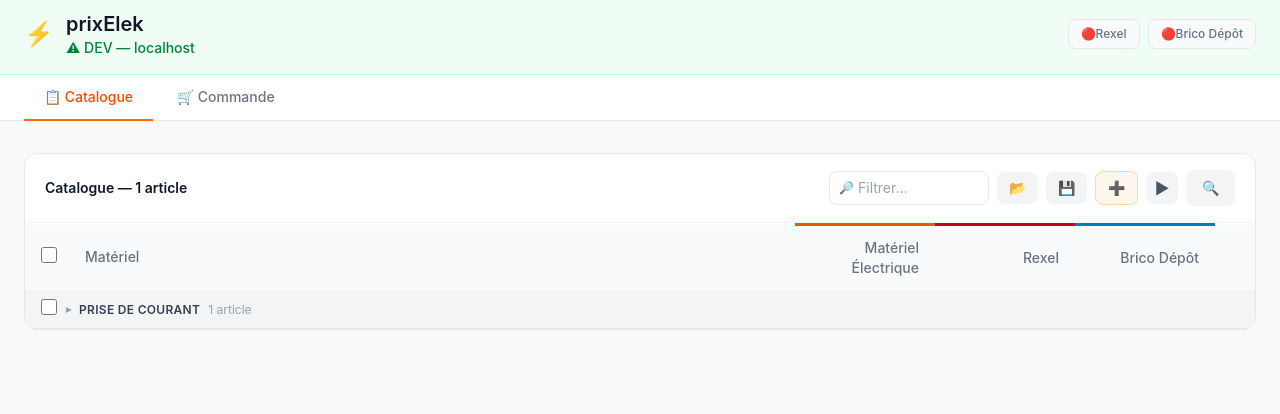
Test: App › scan button becomes enabled after selecting an item
This screenshot has width=1280, height=414.
What coordinates should you click on to do the following:
click the button named "Tout déplier"
I would click on:
 (1162, 188)
Its box is [1146,172,1178,204].
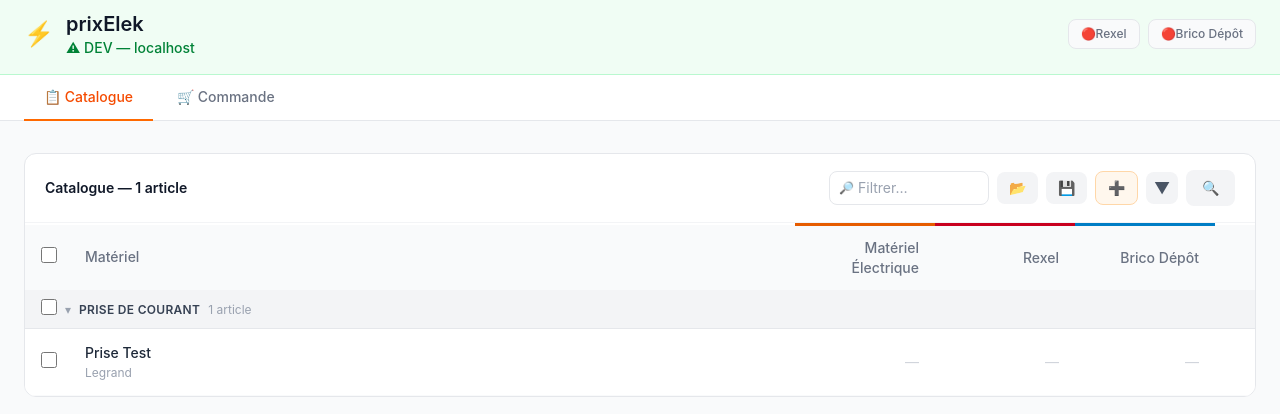
What coordinates should you click on to do the following:
click the checkbox named "Sélectionner Prise Test"
I would click on:
 (49, 360)
Its box is [41,352,57,368].
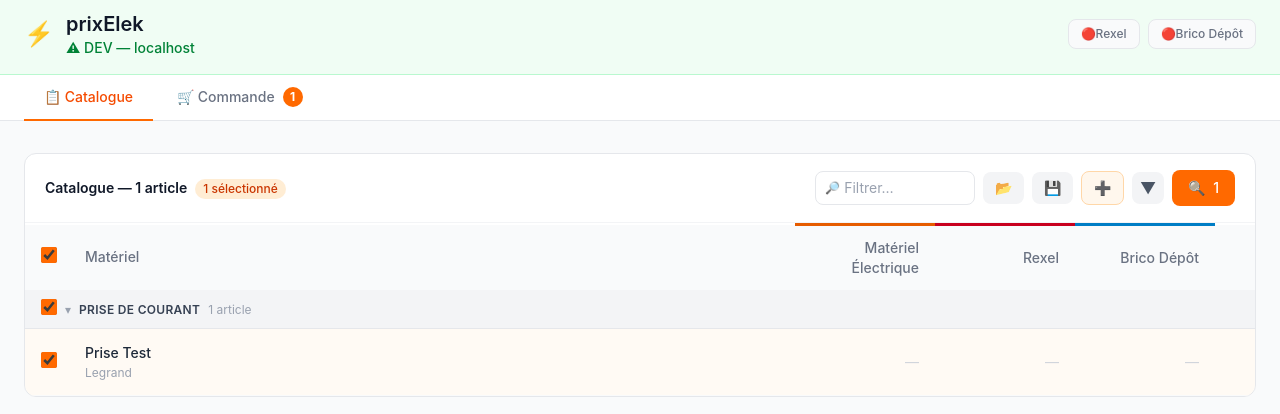
Expected: the button named "Actualiser les prix" is enabled, [1172,170,1235,206]
